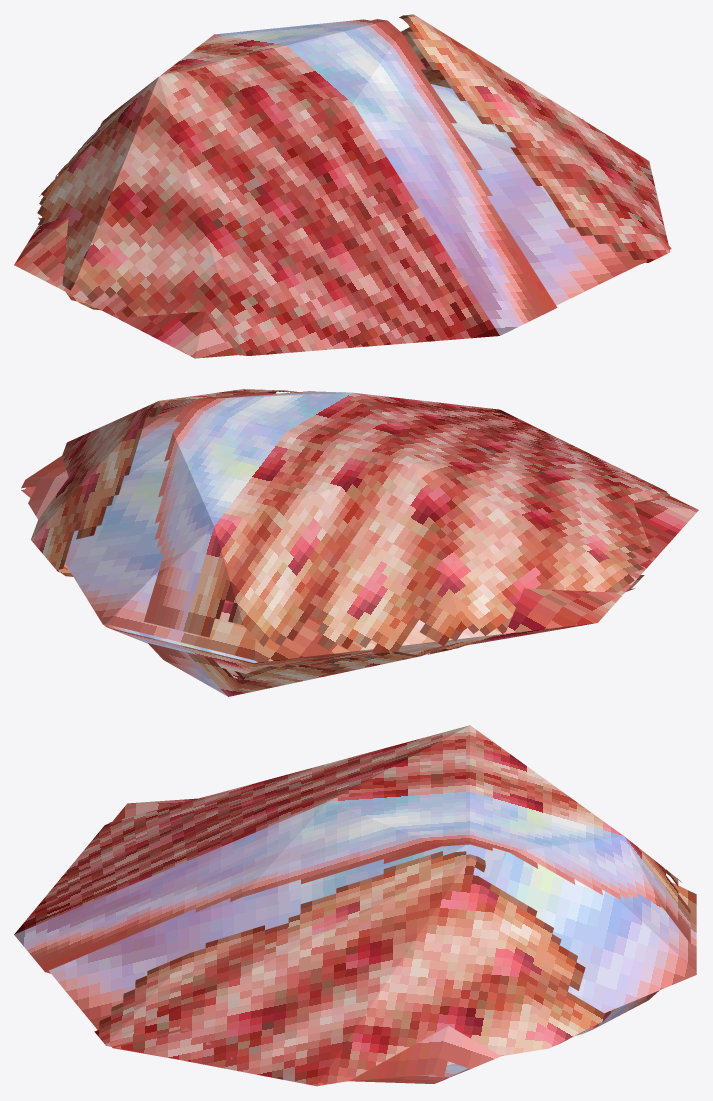
The model's file is obj_shell.obj.
3 views of the same model, one above another, from view 1: azimuth 30°, elevation 25°; view 2: azimuth 150°, elevation 25°; view 3: azimuth 270°, elevation 25° (orthographic). The views are drawn at different scales.
Visible parts, largest first — view 1: shell_upper, skl_root; view 2: shell_upper, skl_root; view 3: shell_upper, skl_root.
Part boxes in pixels (x1=…): shell_upper: x1=14, y1=14, x2=671, y2=358; skl_root: x1=38, y1=14, x2=670, y2=358; shell_upper: x1=21, y1=389, x2=698, y2=662; skl_root: x1=21, y1=391, x2=698, y2=696; shell_upper: x1=14, y1=725, x2=696, y2=1086; skl_root: x1=14, y1=725, x2=696, y2=1086.
Bounding box in the file's own units: 39.06 × 15.3 × 37.19.
1 material, 1 textured.
